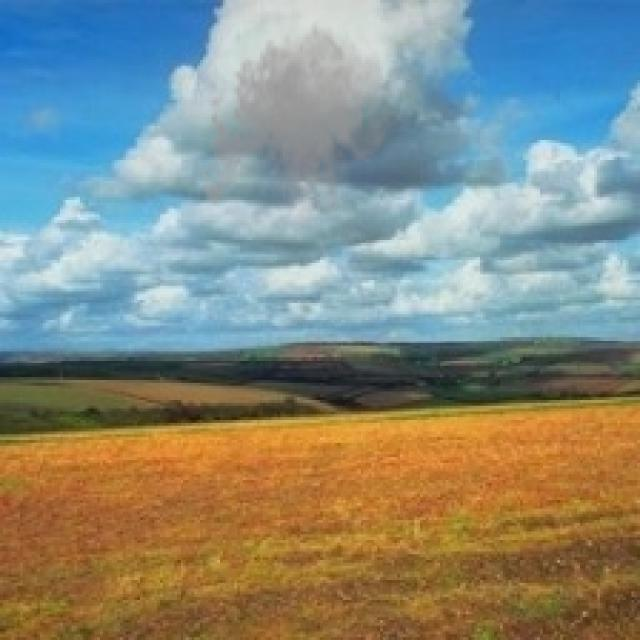smoke: (197, 14, 406, 240)
